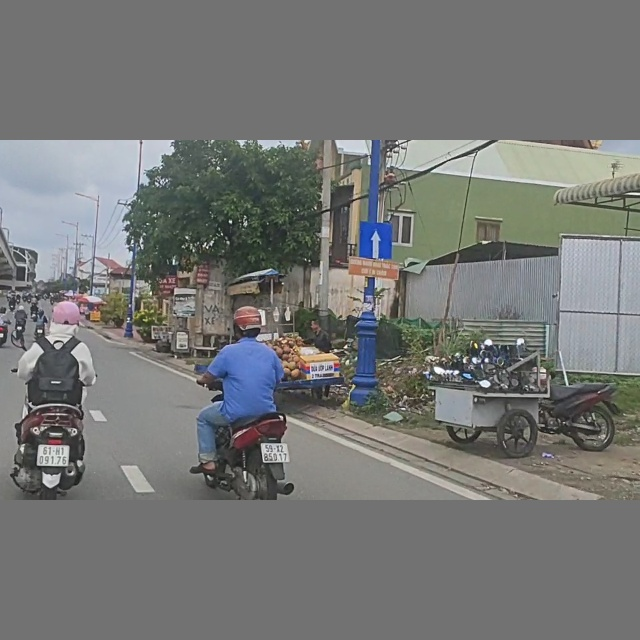I.407a: (359, 221, 393, 259)
